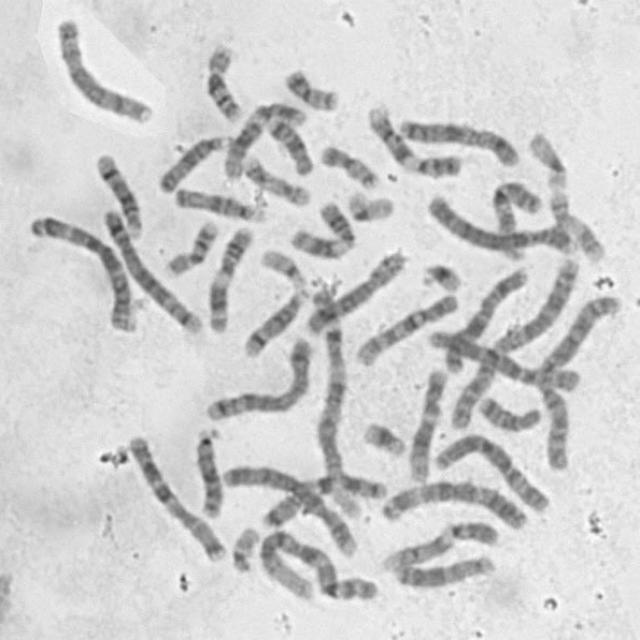A1: (308, 277, 359, 522), (252, 525, 380, 605)
A2: (445, 251, 584, 432), (532, 289, 626, 474)
A3: (24, 207, 140, 334), (376, 475, 530, 533)
B4: (218, 458, 362, 560), (422, 188, 578, 256)
B5: (96, 204, 201, 336), (201, 332, 317, 422)
C10: (348, 286, 462, 369), (484, 175, 543, 262)
C11: (203, 220, 257, 334), (284, 194, 357, 261)
C12: (219, 96, 311, 182), (403, 362, 450, 483)
C6: (422, 323, 583, 392), (428, 426, 554, 514)
C7: (122, 428, 229, 563), (257, 468, 391, 530)
C8: (52, 12, 156, 125), (300, 245, 408, 338)
C9: (361, 99, 465, 179), (377, 514, 502, 572)
D13: (388, 550, 498, 590), (189, 420, 226, 520)
D14: (239, 282, 312, 359), (92, 147, 146, 239)
D15: (153, 129, 234, 195), (169, 180, 270, 224)
E16: (200, 38, 247, 124), (161, 216, 223, 278)
E17: (544, 184, 608, 264), (238, 149, 312, 208)
E18: (262, 110, 316, 177), (473, 390, 543, 433)
F19: (523, 126, 571, 192), (341, 184, 397, 224)
F20: (314, 138, 381, 191), (280, 62, 342, 113)
G21: (357, 416, 410, 459), (415, 256, 465, 294)
G22: (256, 243, 310, 290), (226, 520, 261, 576)
X: (439, 262, 533, 375), (395, 113, 523, 168)
